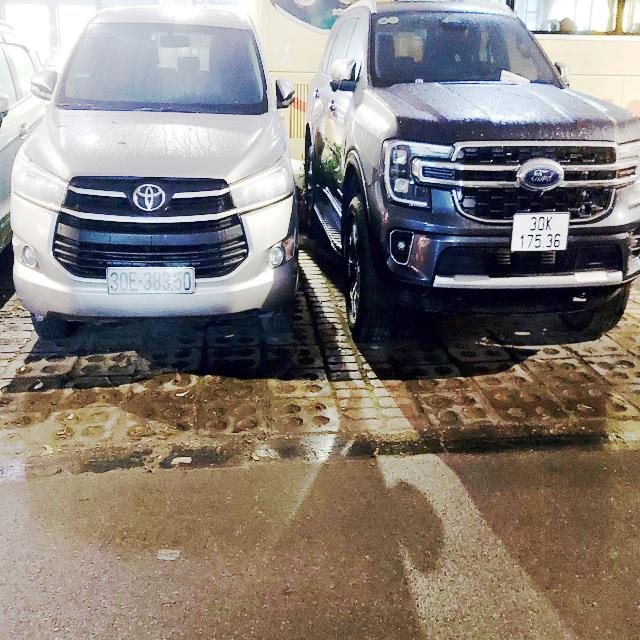license_plate: (107, 267, 196, 295), (512, 213, 571, 252)
